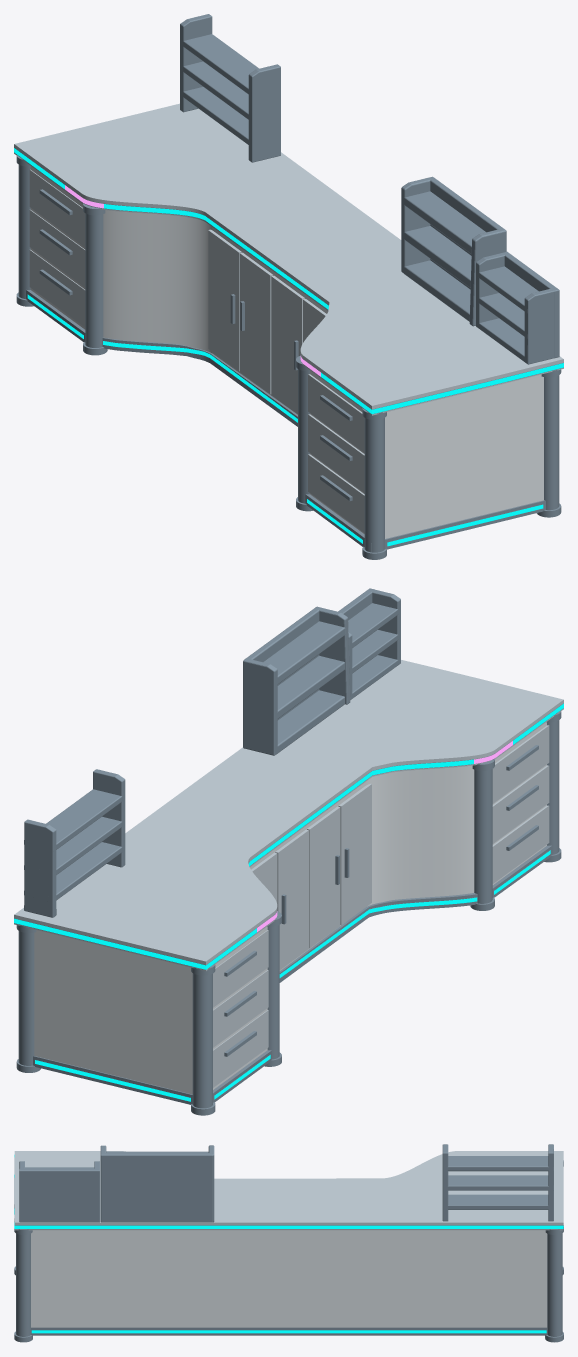
Rendered from table2_final.fbx.
3 renders of one model, top to bottom at view 1: azimuth 30°, elevation 25°; view 2: azimuth 150°, elevation 25°; view 3: azimuth 270°, elevation 25°, orthographic. The views are drawn at different scales.
Parts seen in each view (by area): view 1: стол, ПОЛКА, полки, полка, Table2_Upper_Cyan_Perimeter, Table2_Lower_Cyan_Perimeter, Table2_Upper_Silver_Inset, Table2_Lower_Silver_Inset; view 2: стол, ПОЛКА, полки, полка, Table2_Upper_Cyan_Perimeter, Table2_Lower_Cyan_Perimeter, Table2_Upper_Silver_Inset, Table2_Lower_Silver_Inset; view 3: стол, ПОЛКА, полки, полка, Table2_Upper_Cyan_Perimeter, Table2_Lower_Cyan_Perimeter, Table2_Upper_Silver_Inset, Table2_Lower_Silver_Inset.
Part boxes in pixels (x1=…): стол: x1=14, y1=103, x2=563, y2=559; ПОЛКА: x1=401, y1=176, x2=506, y2=326; полки: x1=180, y1=14, x2=280, y2=162; полка: x1=476, y1=251, x2=559, y2=364; Table2_Upper_Cyan_Perimeter: x1=14, y1=148, x2=563, y2=414; Table2_Lower_Cyan_Perimeter: x1=27, y1=294, x2=543, y2=546; Table2_Upper_Silver_Inset: x1=14, y1=147, x2=563, y2=414; Table2_Lower_Silver_Inset: x1=28, y1=294, x2=542, y2=546; стол: x1=14, y1=660, x2=563, y2=1115; ПОЛКА: x1=243, y1=606, x2=350, y2=755; полки: x1=24, y1=769, x2=125, y2=917; полка: x1=338, y1=588, x2=400, y2=699; Table2_Upper_Cyan_Perimeter: x1=14, y1=703, x2=563, y2=969; Table2_Lower_Cyan_Perimeter: x1=35, y1=850, x2=550, y2=1101; Table2_Upper_Silver_Inset: x1=14, y1=703, x2=563, y2=969; Table2_Lower_Silver_Inset: x1=35, y1=850, x2=550, y2=1101; стол: x1=14, y1=1151, x2=563, y2=1342; ПОЛКА: x1=100, y1=1145, x2=214, y2=1222; полки: x1=442, y1=1144, x2=553, y2=1221; полка: x1=19, y1=1161, x2=99, y2=1222; Table2_Upper_Cyan_Perimeter: x1=14, y1=1155, x2=563, y2=1228; Table2_Lower_Cyan_Perimeter: x1=31, y1=1330, x2=546, y2=1333; Table2_Upper_Silver_Inset: x1=14, y1=1207, x2=563, y2=1229; Table2_Lower_Silver_Inset: x1=32, y1=1330, x2=546, y2=1330.
Size of the model in its own units: 145 by 173 by 460.
